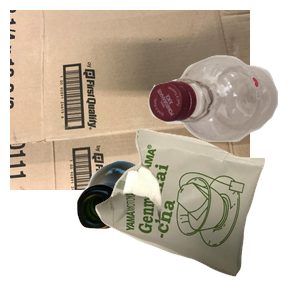cardboard: (10, 10, 250, 190)
glass: (74, 158, 223, 300)
plastic: (146, 53, 300, 187)
trash: (93, 126, 300, 300)
